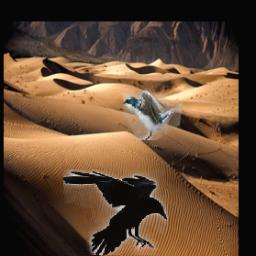Crow: (63, 169, 168, 255)
Swallow: (123, 90, 184, 141)
